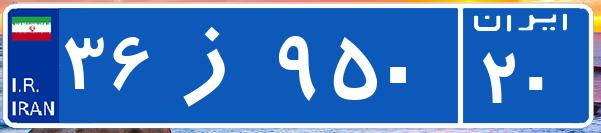0: (385, 28, 445, 110), (525, 38, 570, 115)
2: (475, 38, 525, 113)
3: (57, 26, 110, 107)
5: (330, 28, 385, 110)
6: (110, 28, 158, 105)
9: (273, 28, 330, 110)
ز: (158, 15, 273, 115)
